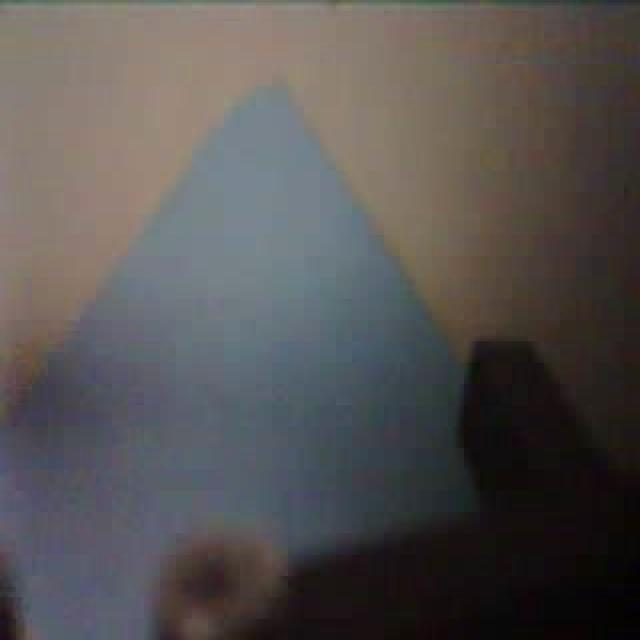blue_box: (1, 75, 484, 637)
